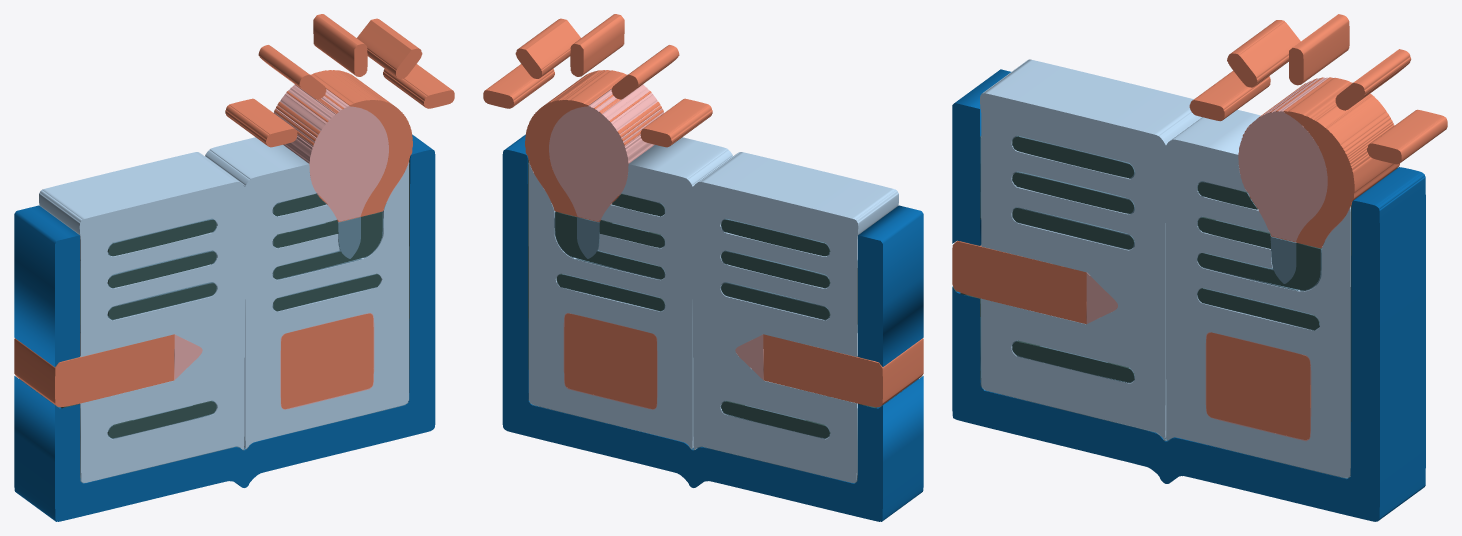
The model's file is cubo8.gltf.
3 renders of one model, left to right at view 1: azimuth 30°, elevation 25°; view 2: azimuth 150°, elevation 25°; view 3: azimuth 330°, elevation 25°, orthographic. The views are drawn at different scales.
Parts seen in each view (by area): view 1: path4; view 2: path4; view 3: path4.
Boxes of the visible parts, <box> form: path4: <box>14,14,454,521</box>; path4: <box>483,14,923,521</box>; path4: <box>952,14,1447,521</box>.
Bounding box in the file's own units: 0.6477 × 0.6434 × 0.1147.
